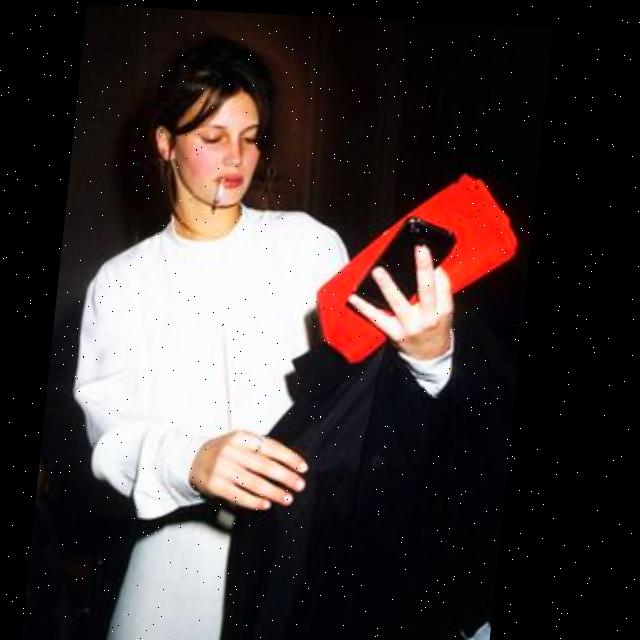cigarette: (219, 177, 229, 202)
